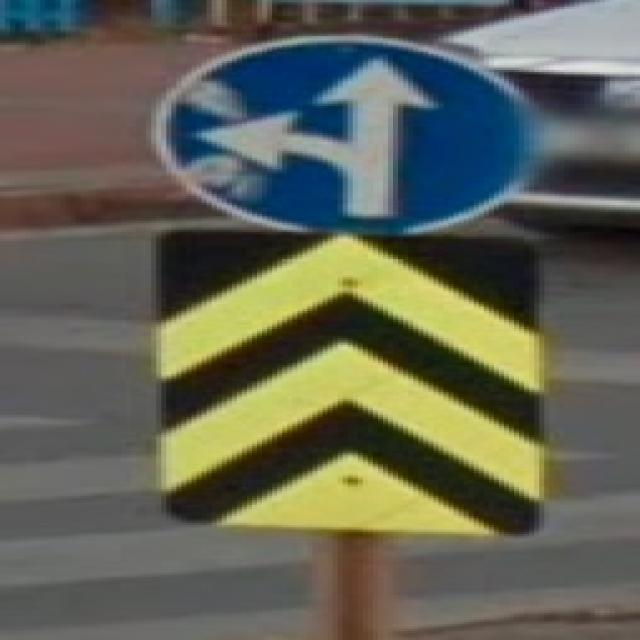Straight or Left: (157, 36, 535, 234)
